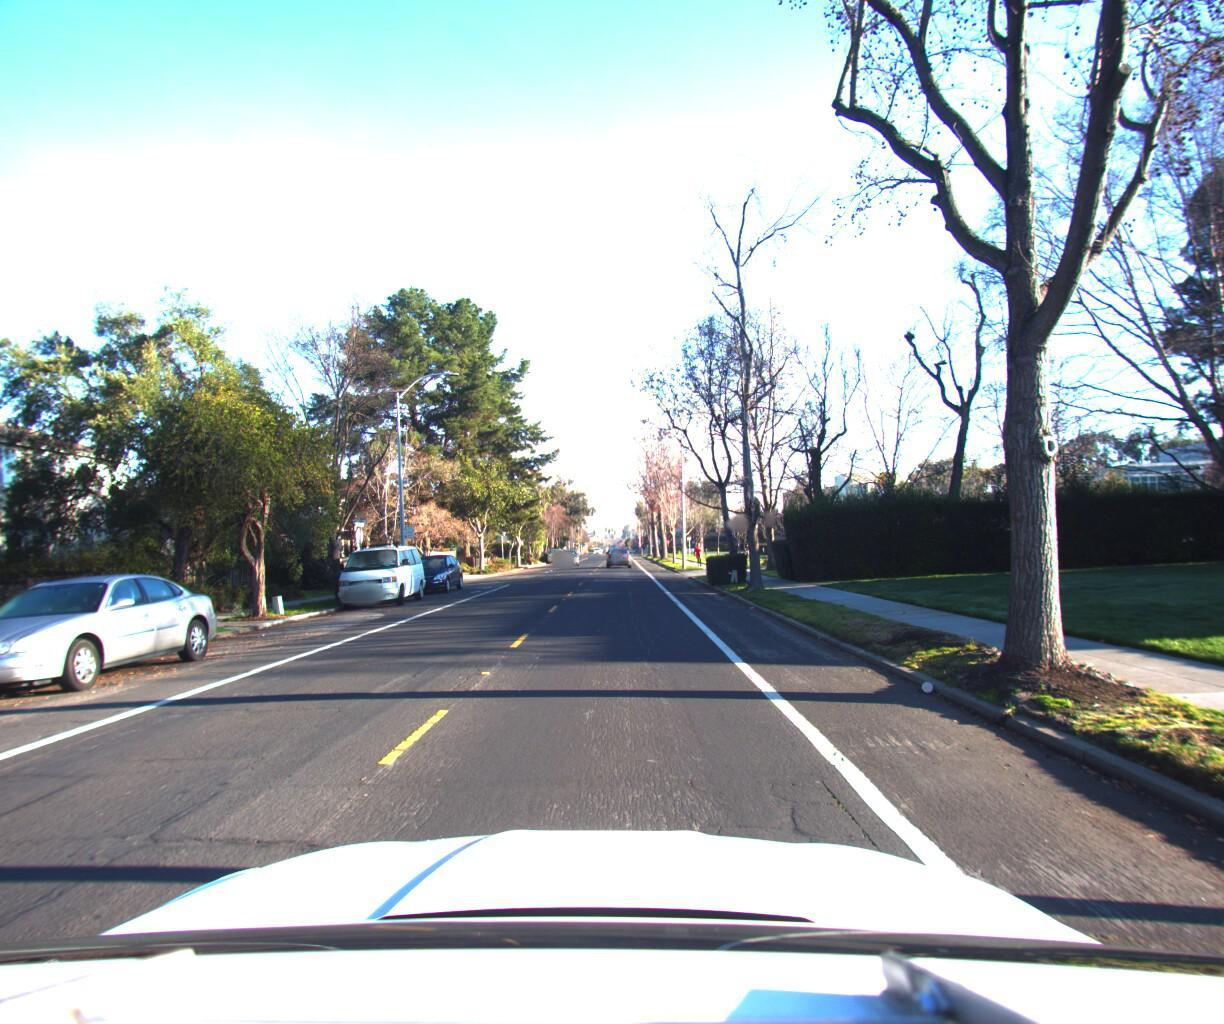car: (325, 535, 430, 603), (402, 546, 465, 589), (602, 541, 632, 564), (555, 541, 579, 559)
